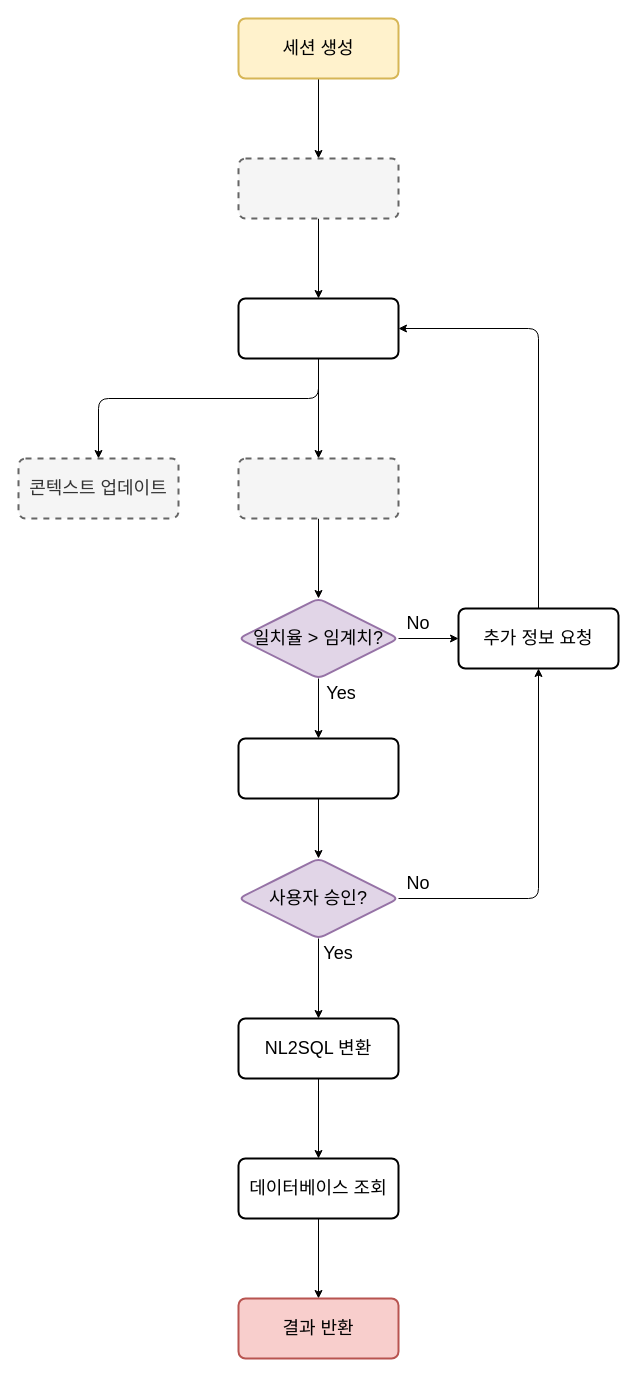
This 636x1376 diagram has some shape labels left out. The shapes that lost their labels are listed below. From the top down, each one's box as (x1, y1, x2, y2) in pixels, then its label:
(237, 157, 399, 219): 콘텍스트 초기화
(237, 297, 399, 359): 자연어 정보 수신
(237, 457, 399, 519): 메타데이터 RAG 검색
(237, 737, 399, 799): 메타데이터 요약 & 샘플 제시
